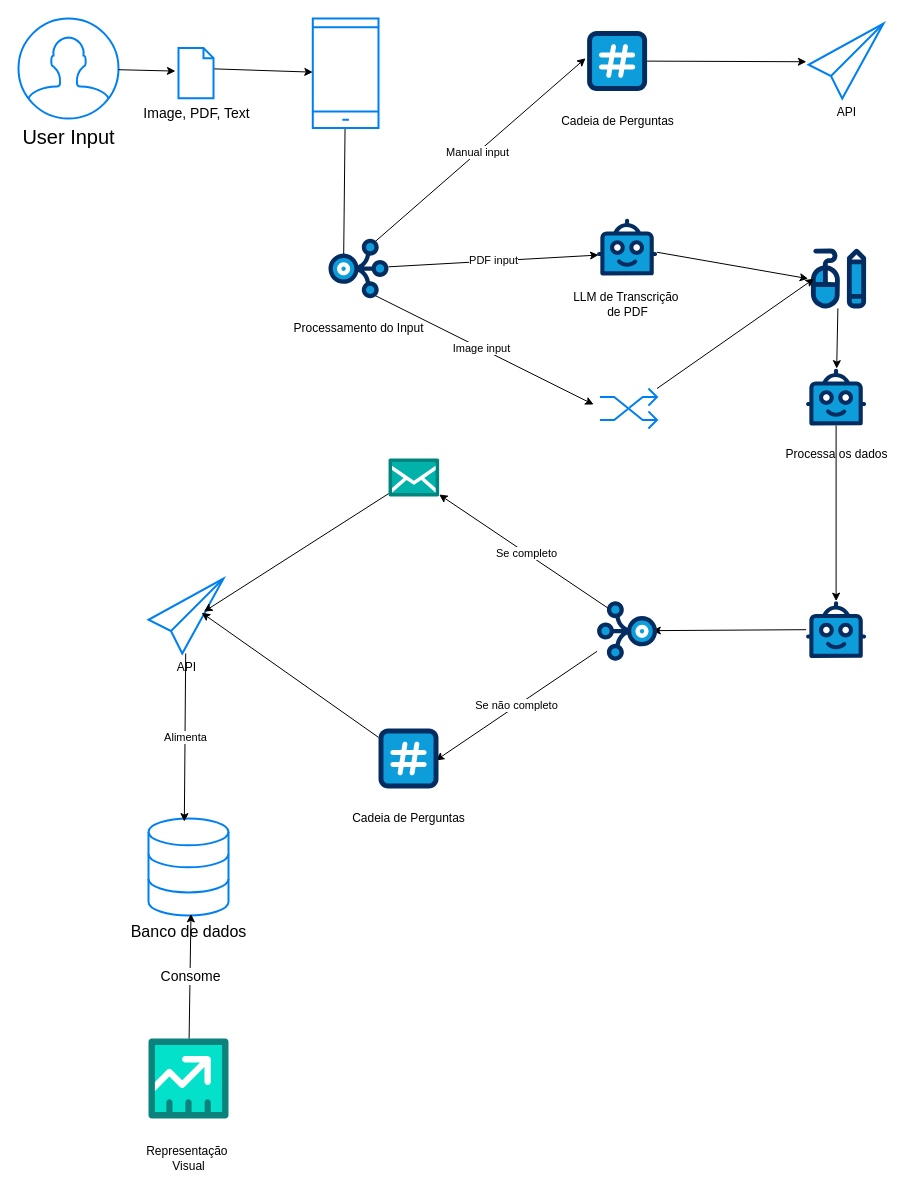
Image size: 904x1190. Some labels were removed from this diagram. The centre of each missing label's shape, as x and y in pixels:
Confirmação: (413,477)
Output Parser: (835,629)
Prompt templat + Arquivo: (838,278)
Telegram: (345,72)
Transformar IMG p/ Enconde64: (628,408)
